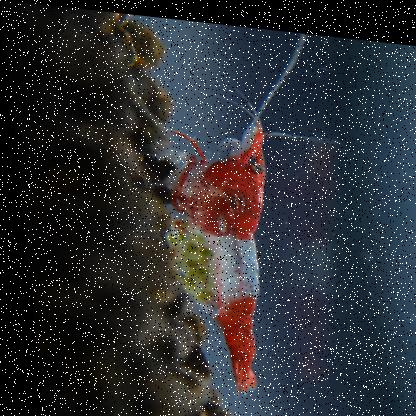shrimp: (125, 91, 289, 400)
